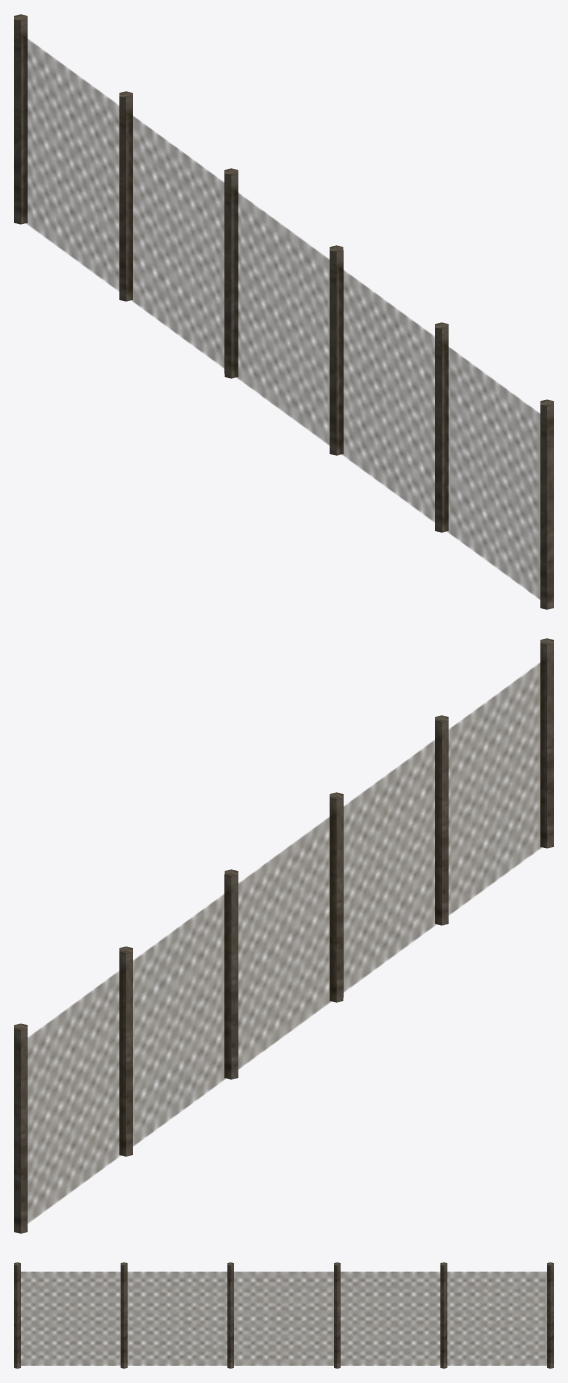
Rendered from cove-fishing-net.lod1.glb.
3 views of the same model, one above another, from view 1: azimuth 30°, elevation 25°; view 2: azimuth 150°, elevation 25°; view 3: azimuth 270°, elevation 25° (orthographic). The views are drawn at different scales.
Parts seen in each view (by area): view 1: RedesPesca_RedeMaterial_0, RedesPesca_Madeira_0; view 2: RedesPesca_RedeMaterial_0, RedesPesca_Madeira_0; view 3: RedesPesca_RedeMaterial_0, RedesPesca_Madeira_0.
Part boxes in pixels (x1,y1,x2,y2): RedesPesca_RedeMaterial_0: (23, 36, 540, 599); RedesPesca_Madeira_0: (14, 14, 553, 609); RedesPesca_RedeMaterial_0: (27, 660, 544, 1222); RedesPesca_Madeira_0: (14, 638, 553, 1233); RedesPesca_RedeMaterial_0: (21, 1271, 546, 1365); RedesPesca_Madeira_0: (14, 1262, 553, 1368).
Size of the model in its own units: 0.0894 by 1.26 by 6.
2 materials, 2 textured.
